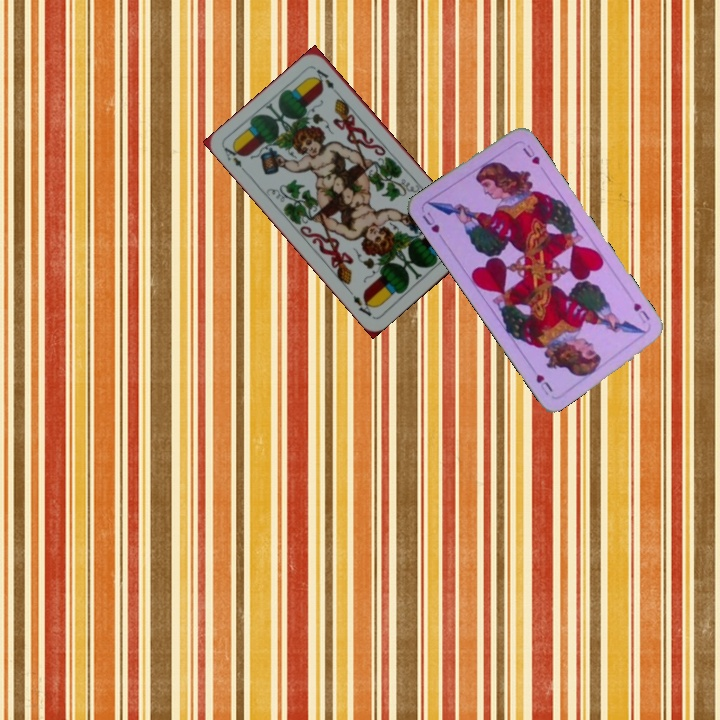EA: (220, 141, 251, 177)
HU: (418, 208, 442, 235), (629, 299, 653, 326)
